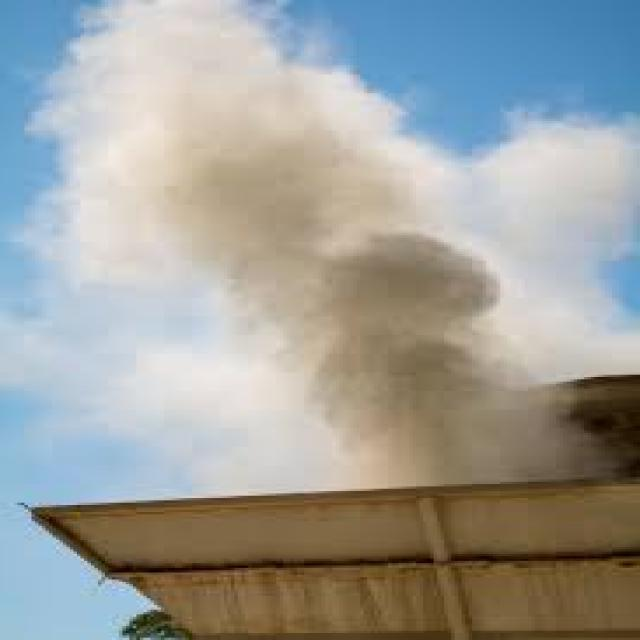Smoke: (120, 102, 620, 489)
